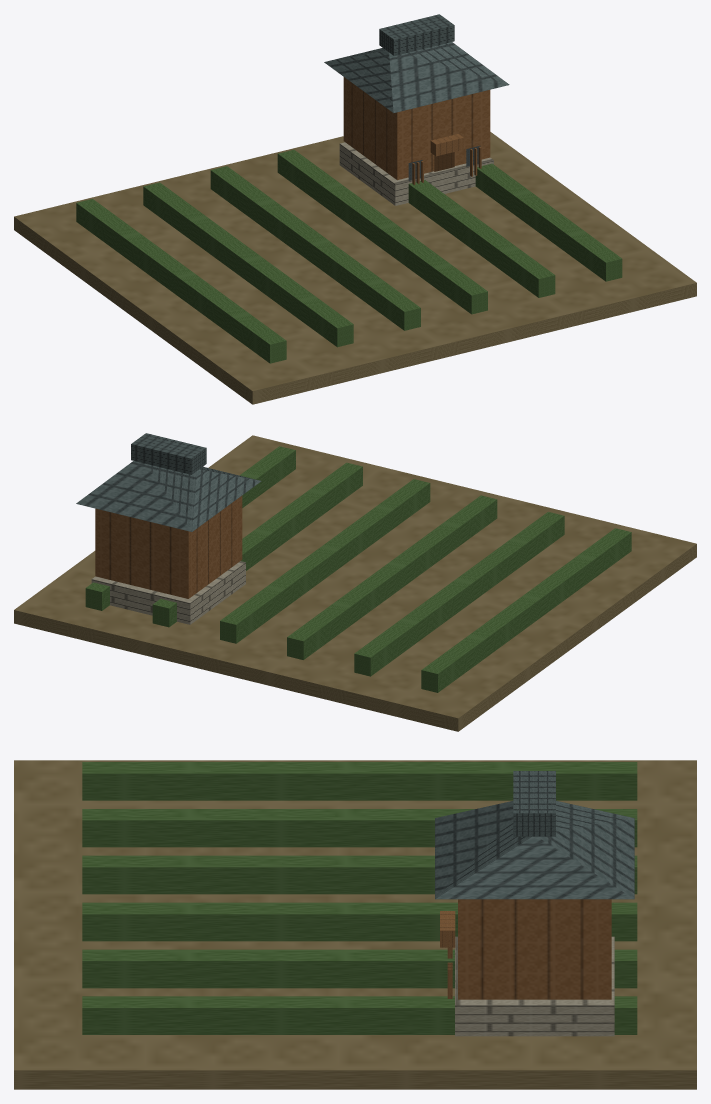
File: domestic-FARM-3-lod1.glb
3 views of the same model, one above another, from view 1: azimuth 30°, elevation 25°; view 2: azimuth 150°, elevation 25°; view 3: azimuth 270°, elevation 25° (orthographic). The views are drawn at different scales.
Bounding box in the file's own units: 0.86 × 0.296 × 0.8.
1 material, 1 textured.
